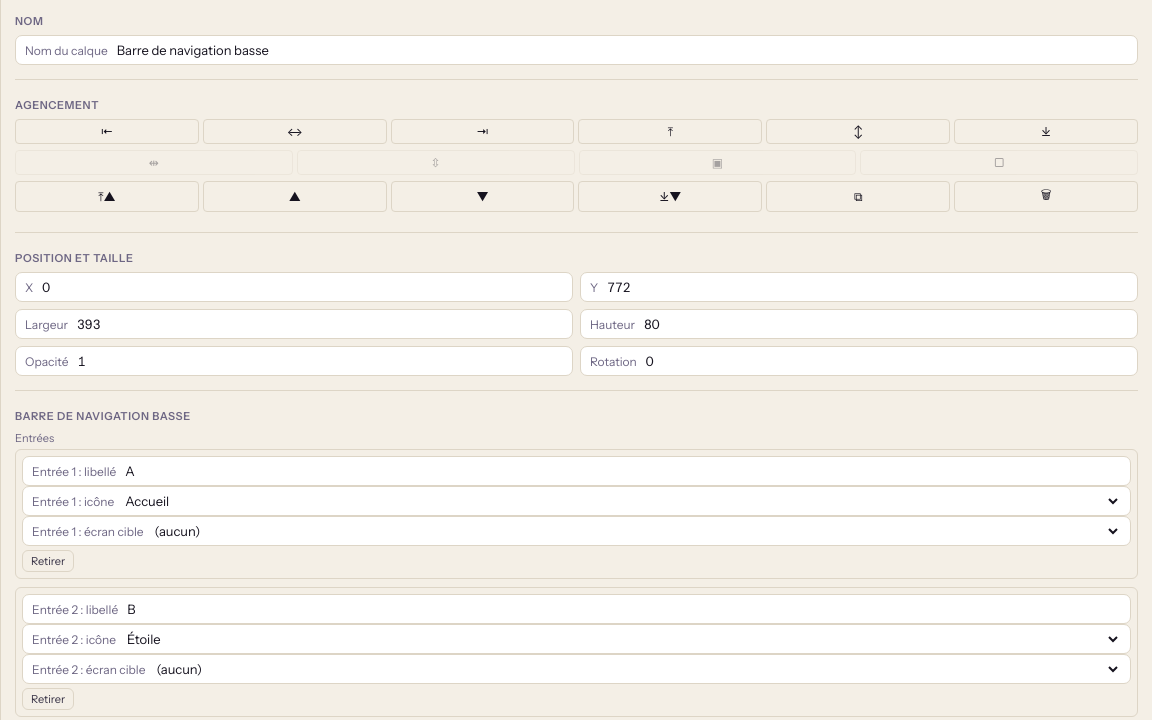
Scenario: Inspecteur : proprietes d un composant › une barre ne peut pas descendre sous 2 entrees (erreur du modele signalee)
Click the button with aria-label "Retirer l’entrée 2": (48, 699) [22,688,74,710]
(page scrolled)
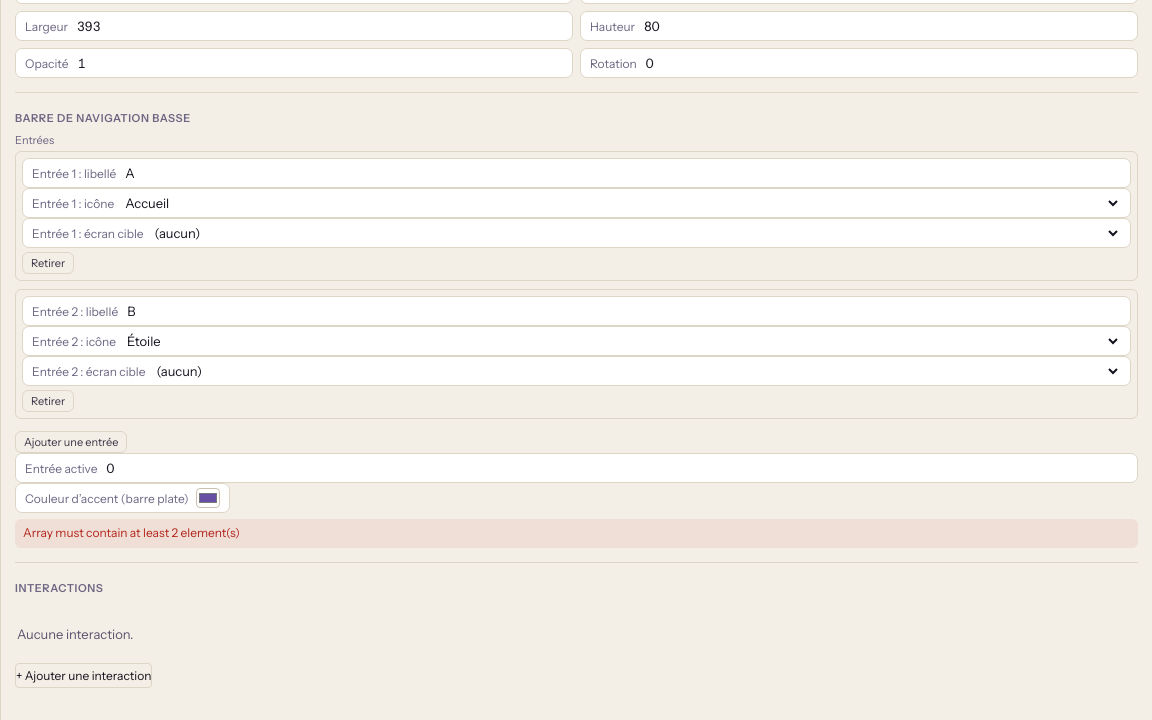
Expected: the message is shown, [15,519,1138,548]
